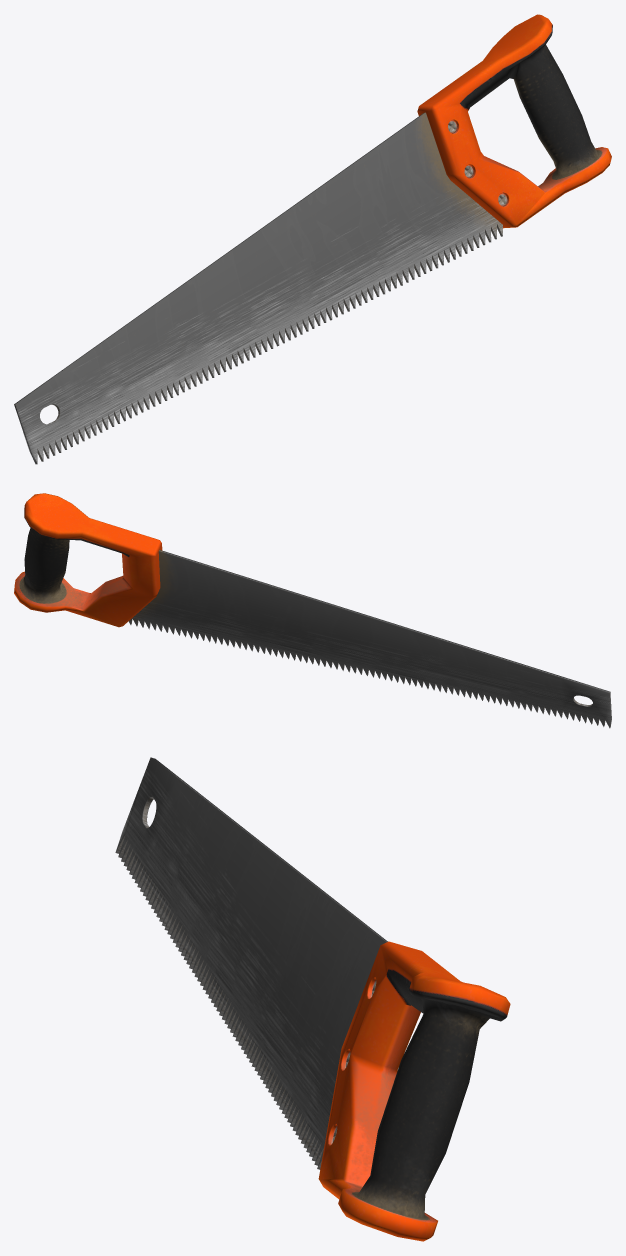
The model's file is handsaw.glb.
The picture shows the model from 3 angles, top to bottom: view 1: azimuth 30°, elevation 25°; view 2: azimuth 150°, elevation 25°; view 3: azimuth 270°, elevation 25°; orthographic projection. The views are drawn at different scales.
Parts seen in each view (by area): view 1: SawLow_1, HandleLow_0; view 2: SawLow_1, HandleLow_0; view 3: SawLow_1, HandleLow_0.
Boxes of the visible parts, left/top/right/bottom form: SawLow_1: left=14, top=112, right=502, bottom=464; HandleLow_0: left=417, top=14, right=611, bottom=228; SawLow_1: left=128, top=550, right=611, bottom=728; HandleLow_0: left=14, top=493, right=162, bottom=627; SawLow_1: left=115, top=757, right=387, bottom=1169; HandleLow_0: left=318, top=941, right=510, bottom=1241.
Bounding box in the file's own units: 0.426 × 0.1335 × 0.1366.
1 material, 1 textured.
